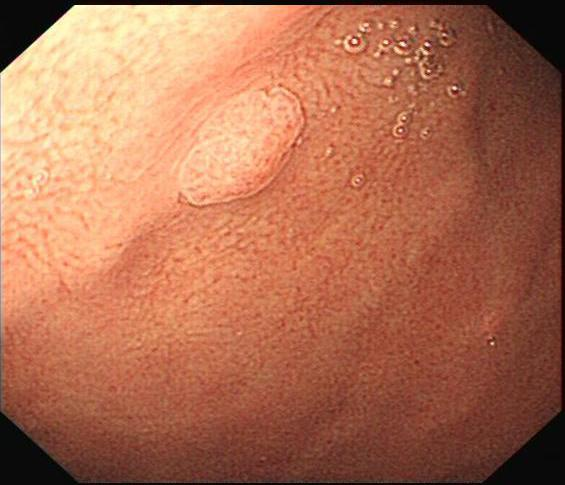Polyp: (159, 63, 357, 228)
